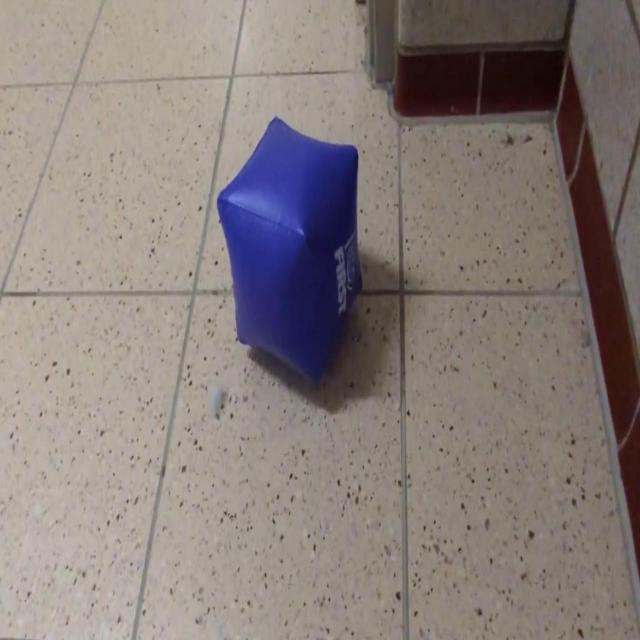frc_cube: (217, 113, 364, 391)
